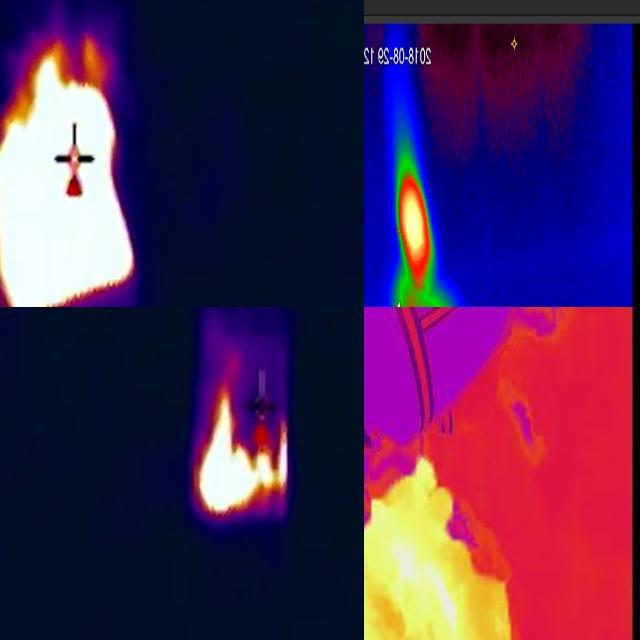fire: (1, 42, 137, 308), (365, 459, 514, 639), (194, 387, 290, 527), (396, 147, 433, 291)
